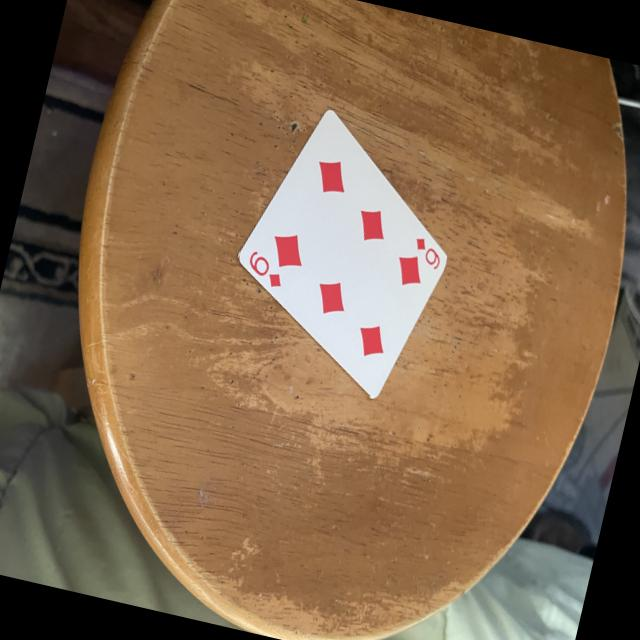6 of diamonds: (237, 109, 444, 397)
